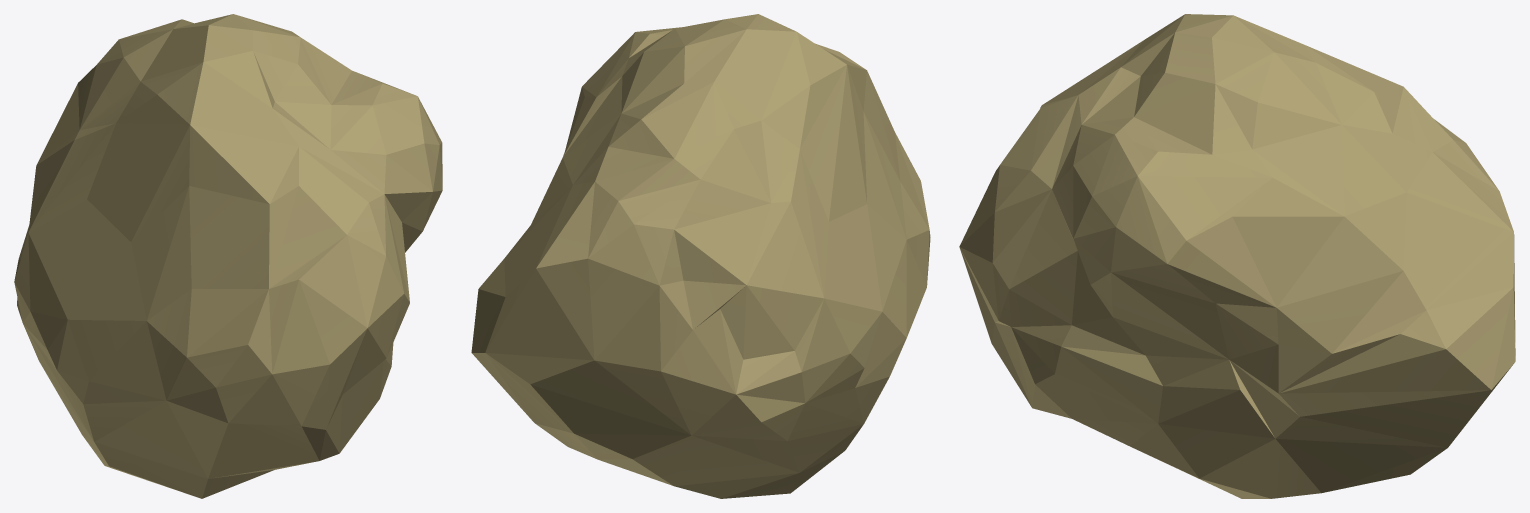
Rendered from SM_rock_57.fbx.
3 views of the same model, side by side, from view 1: azimuth 30°, elevation 25°; view 2: azimuth 150°, elevation 25°; view 3: azimuth 270°, elevation 25° (orthographic). The views are drawn at different scales.
Parts seen in each view (by area): view 1: rock_57; view 2: rock_57; view 3: rock_57.
Part boxes in pixels (x1,y1,x2,y2): rock_57: [14, 14, 442, 498]; rock_57: [471, 14, 930, 498]; rock_57: [959, 14, 1515, 498].
Size of the model in its own units: 363 by 470 by 493.
